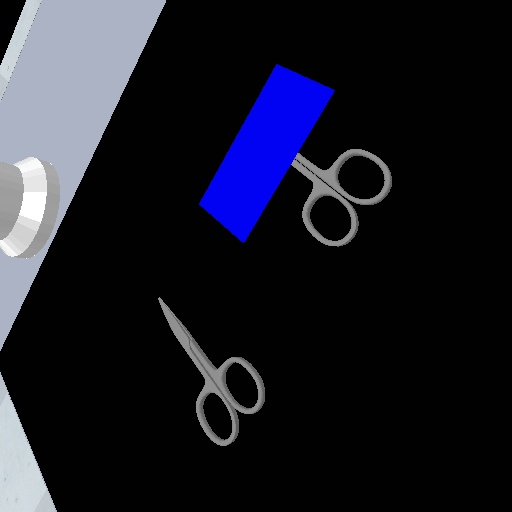tijera: (152, 291, 270, 450), (288, 143, 396, 250)
